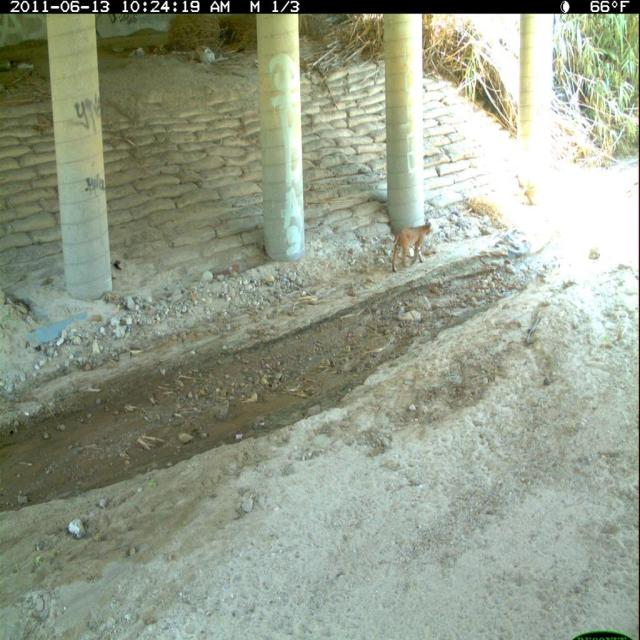bobcat: (390, 218, 435, 277)
